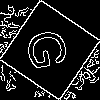G: (25, 25, 78, 73)
